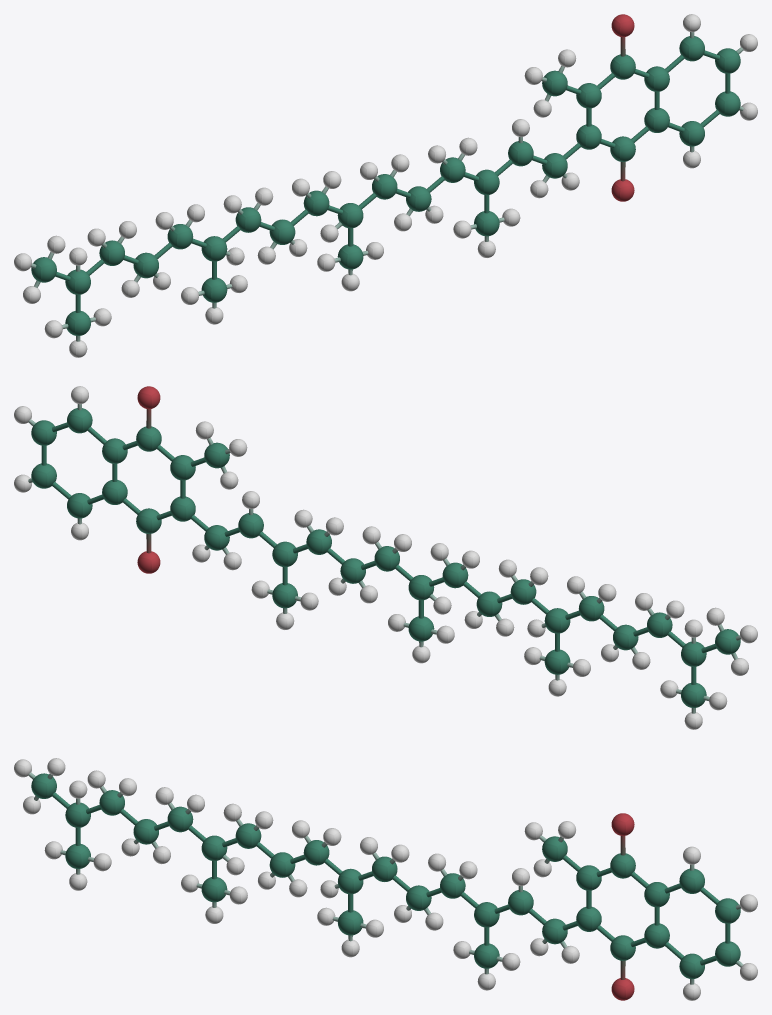
Rendered from Vitamin C 1.fbx.
The picture shows the model from 3 angles, top to bottom: view 1: azimuth 30°, elevation 25°; view 2: azimuth 150°, elevation 25°; view 3: azimuth 330°, elevation 25°; orthographic projection.
Parts seen in each view (by area): view 1: curMeshHyperballExportedMesh; view 2: curMeshHyperballExportedMesh; view 3: curMeshHyperballExportedMesh.
Part boxes in pixels (x1,y1,x2,y2): curMeshHyperballExportedMesh: [14, 14, 757, 357]; curMeshHyperballExportedMesh: [14, 386, 757, 729]; curMeshHyperballExportedMesh: [14, 758, 757, 1000].
Size of the model in its own units: 18.86 by 5.07 by 0.5667.
